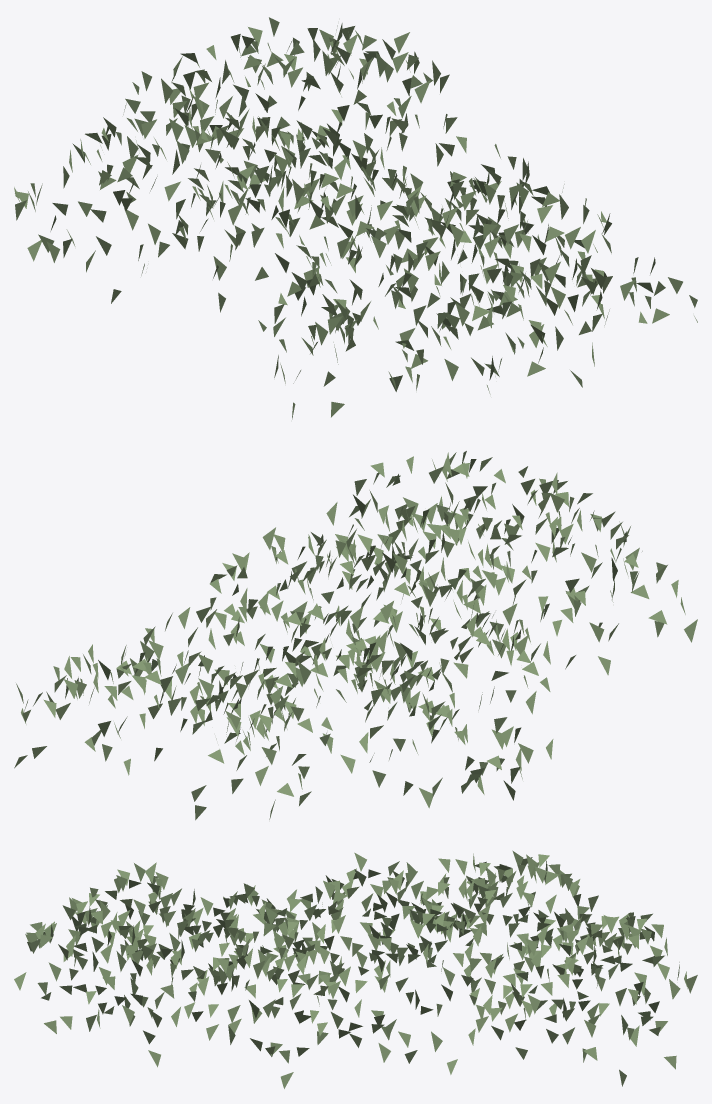
File: xiyuan-vegetation-33-medium.glb
3 renders of one model, top to bottom at view 1: azimuth 30°, elevation 25°; view 2: azimuth 150°, elevation 25°; view 3: azimuth 270°, elevation 25°, orthographic. The views are drawn at different scales.
Parts seen in each view (by area): view 1: shrubs.003; view 2: shrubs.003; view 3: shrubs.003.
Boxes of the visible parts, x1,y1,x2,y2 form: shrubs.003: [14, 17, 697, 419]; shrubs.003: [14, 451, 697, 820]; shrubs.003: [14, 850, 697, 1088].
Bounding box in the file's own units: 4.94 × 1.28 × 7.66.
